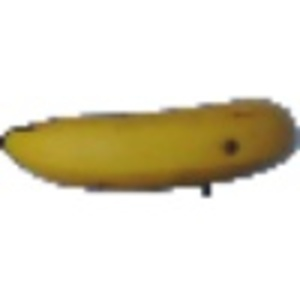banana: (1, 94, 299, 193)
